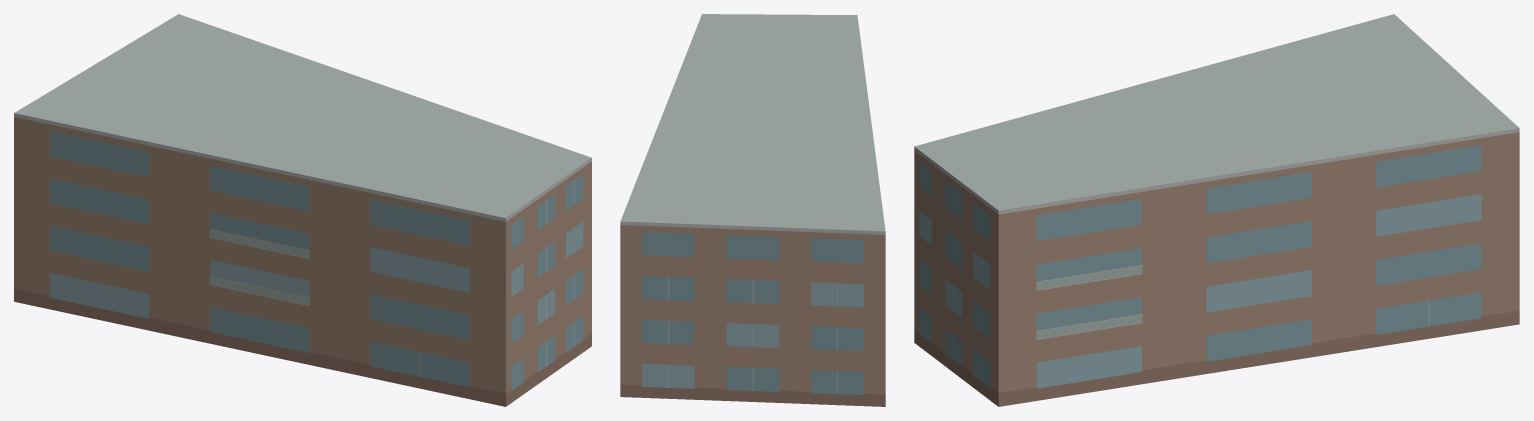
File: residential-78847c48-72ca-458d-8279-2fddba3ac255.glb
3 views of the same model, side by side, from view 1: azimuth 30°, elevation 25°; view 2: azimuth 150°, elevation 25°; view 3: azimuth 270°, elevation 25° (orthographic). The views are drawn at different scales.
Parts seen in each view (by area): view 1: residential-78847c48-72ca-458d-8279-2fddba3ac255.tmp; view 2: residential-78847c48-72ca-458d-8279-2fddba3ac255.tmp; view 3: residential-78847c48-72ca-458d-8279-2fddba3ac255.tmp.
Part boxes in pixels (x1,y1,x2,y2): residential-78847c48-72ca-458d-8279-2fddba3ac255.tmp: [14, 14, 591, 406]; residential-78847c48-72ca-458d-8279-2fddba3ac255.tmp: [620, 14, 885, 406]; residential-78847c48-72ca-458d-8279-2fddba3ac255.tmp: [914, 14, 1519, 406].
Bounding box in the file's own units: 26.23 × 12.2 × 34.12.
